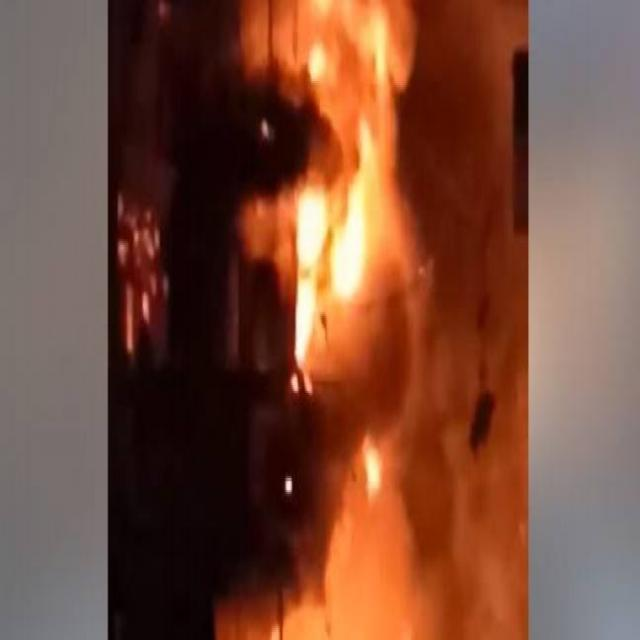Fire: (295, 174, 402, 413)
